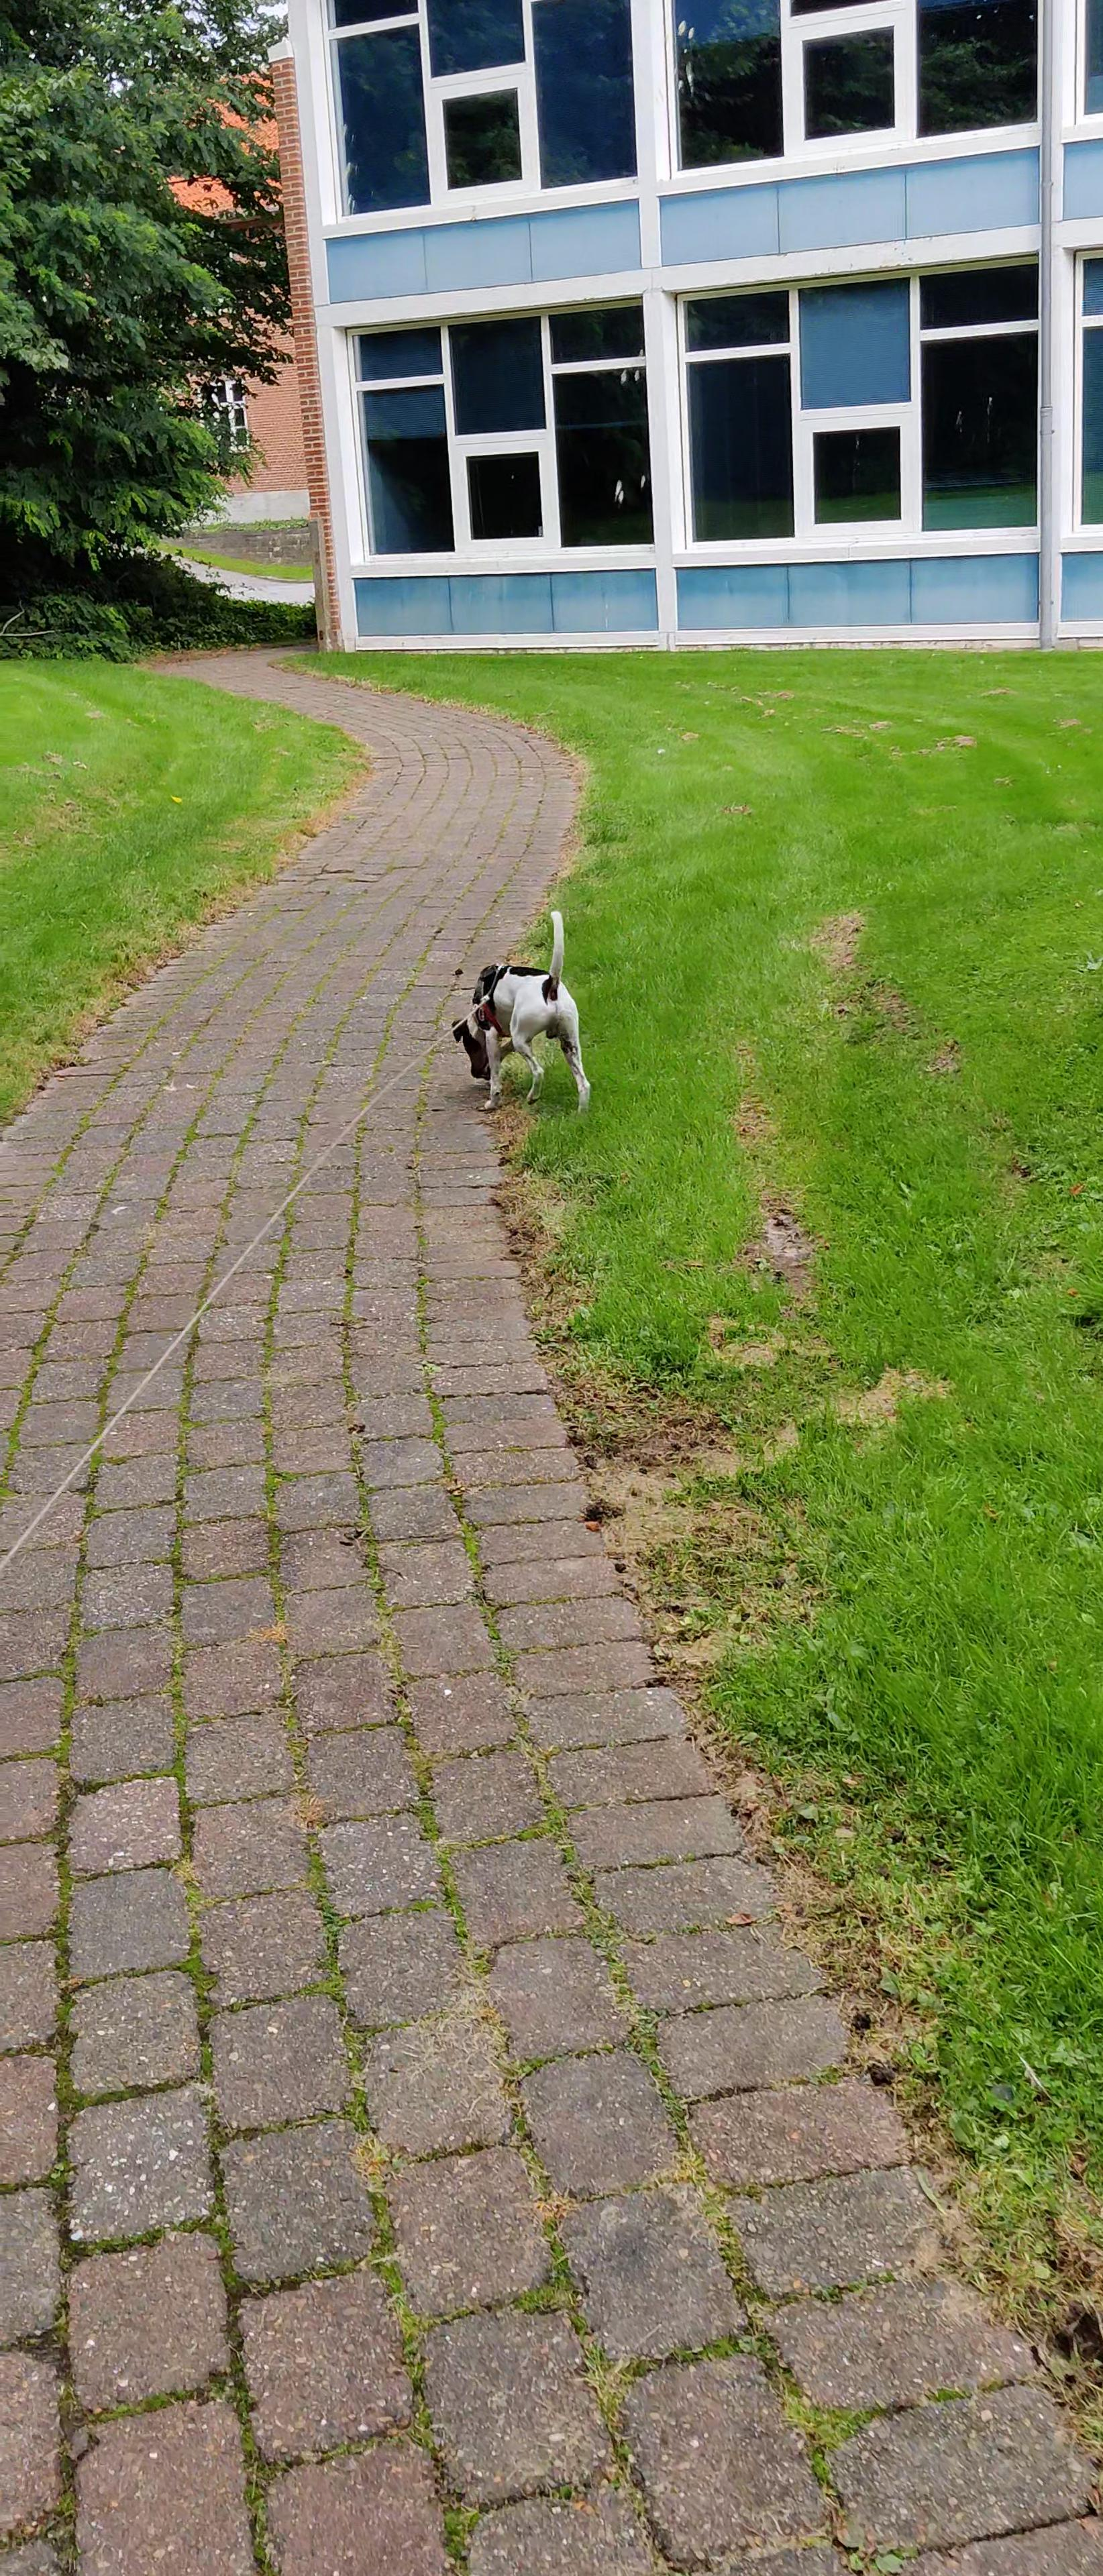Dog: (436, 895, 607, 1129)
